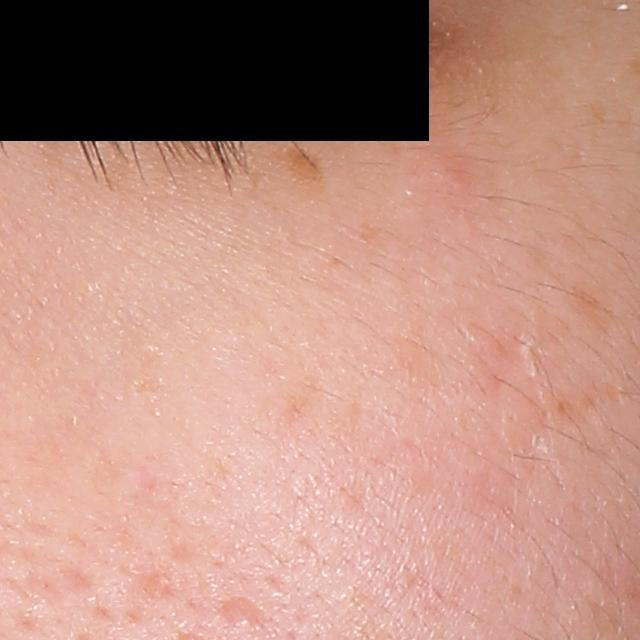atrophic_scar: (130, 571, 172, 621), (217, 597, 267, 638)
melasma: (564, 286, 617, 336), (283, 144, 326, 185), (589, 98, 610, 124)
